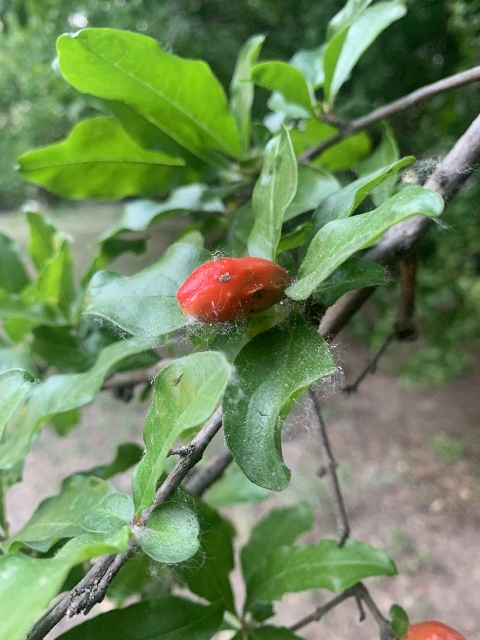bud: (175, 255, 288, 324)
